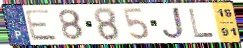5: (121, 6, 151, 41)
8: (93, 6, 122, 43), (57, 8, 85, 41)
E: (23, 8, 60, 42)
J: (161, 6, 186, 41)
L: (187, 7, 216, 38)
